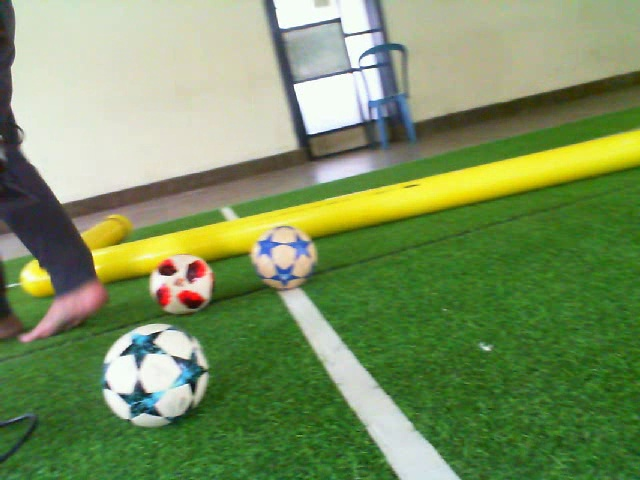ball: (98, 321, 212, 431), (247, 223, 321, 293), (147, 252, 218, 318)
